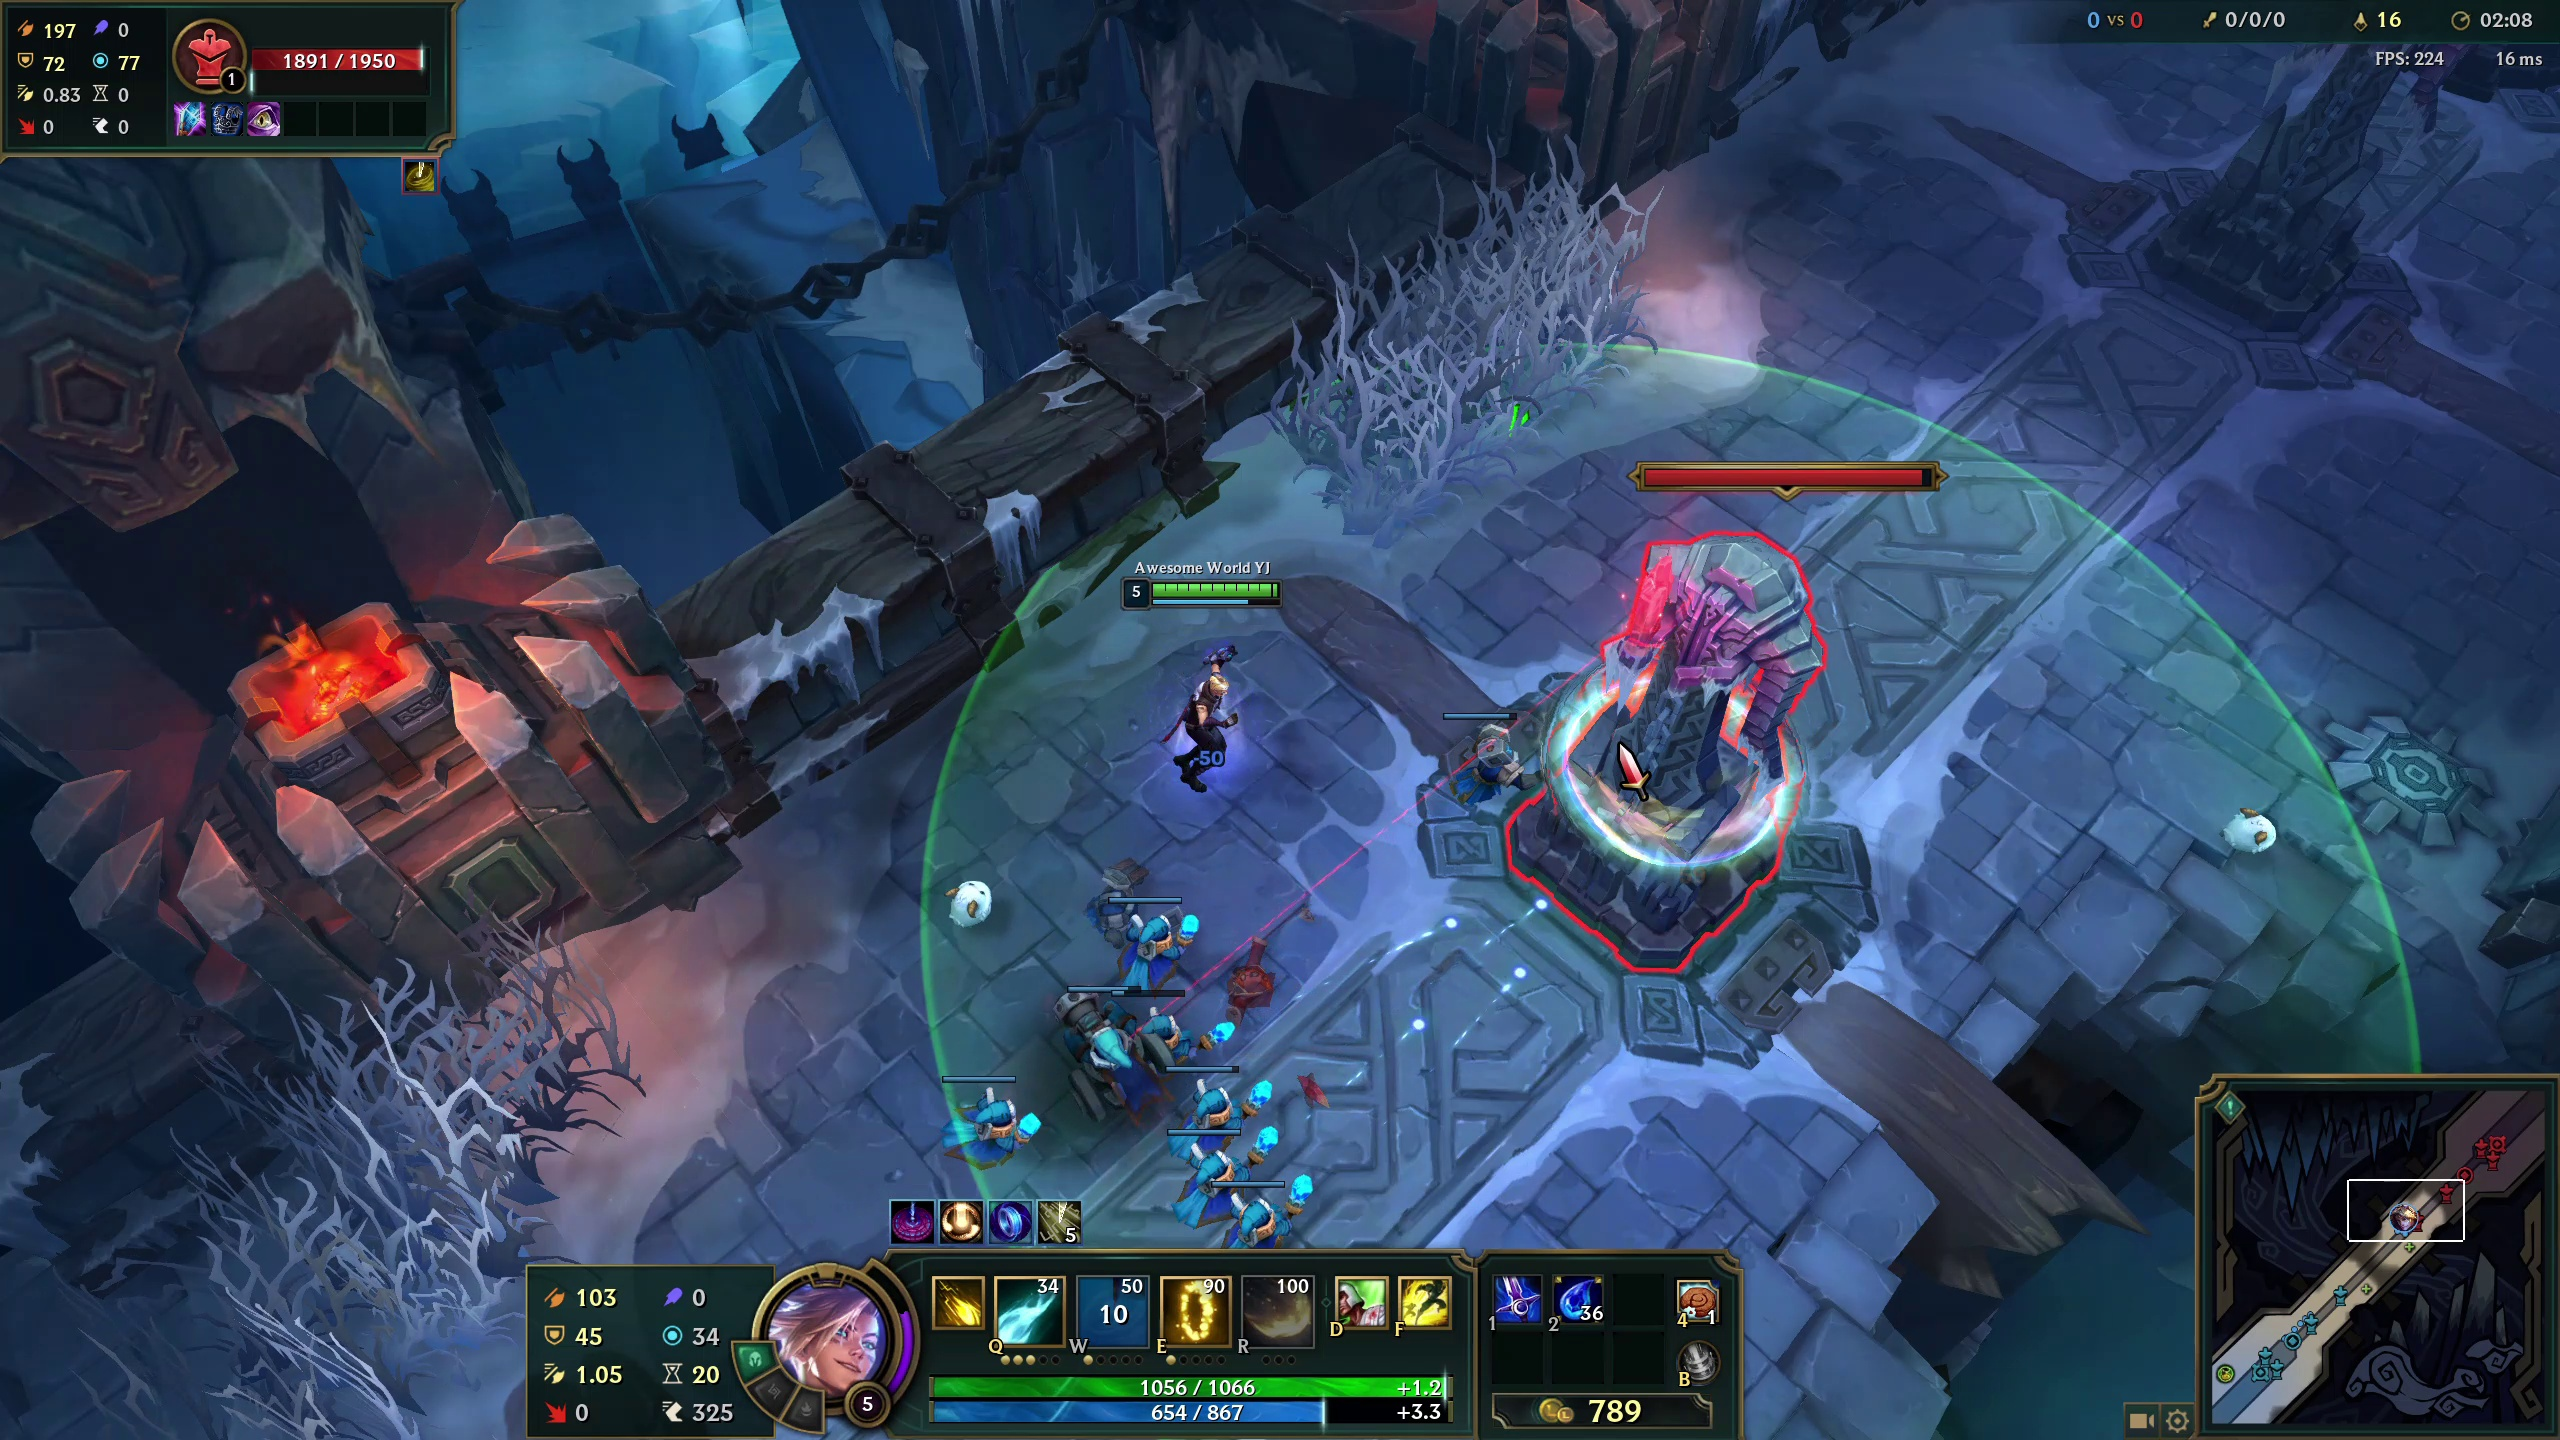EZ: (1122, 571, 1276, 798)
Glass: (301, 978, 556, 1231), (1357, 213, 1618, 420), (107, 1299, 376, 1440)
MyMinion: (928, 1073, 1030, 1164), (1155, 1109, 1257, 1201), (1102, 891, 1203, 983), (1124, 986, 1224, 1078), (1213, 1166, 1315, 1255), (1171, 1043, 1271, 1132)
MySuperMinnion: (1044, 978, 1157, 1132)
Turret: (1537, 529, 1816, 964), (2177, 81, 2414, 331)
